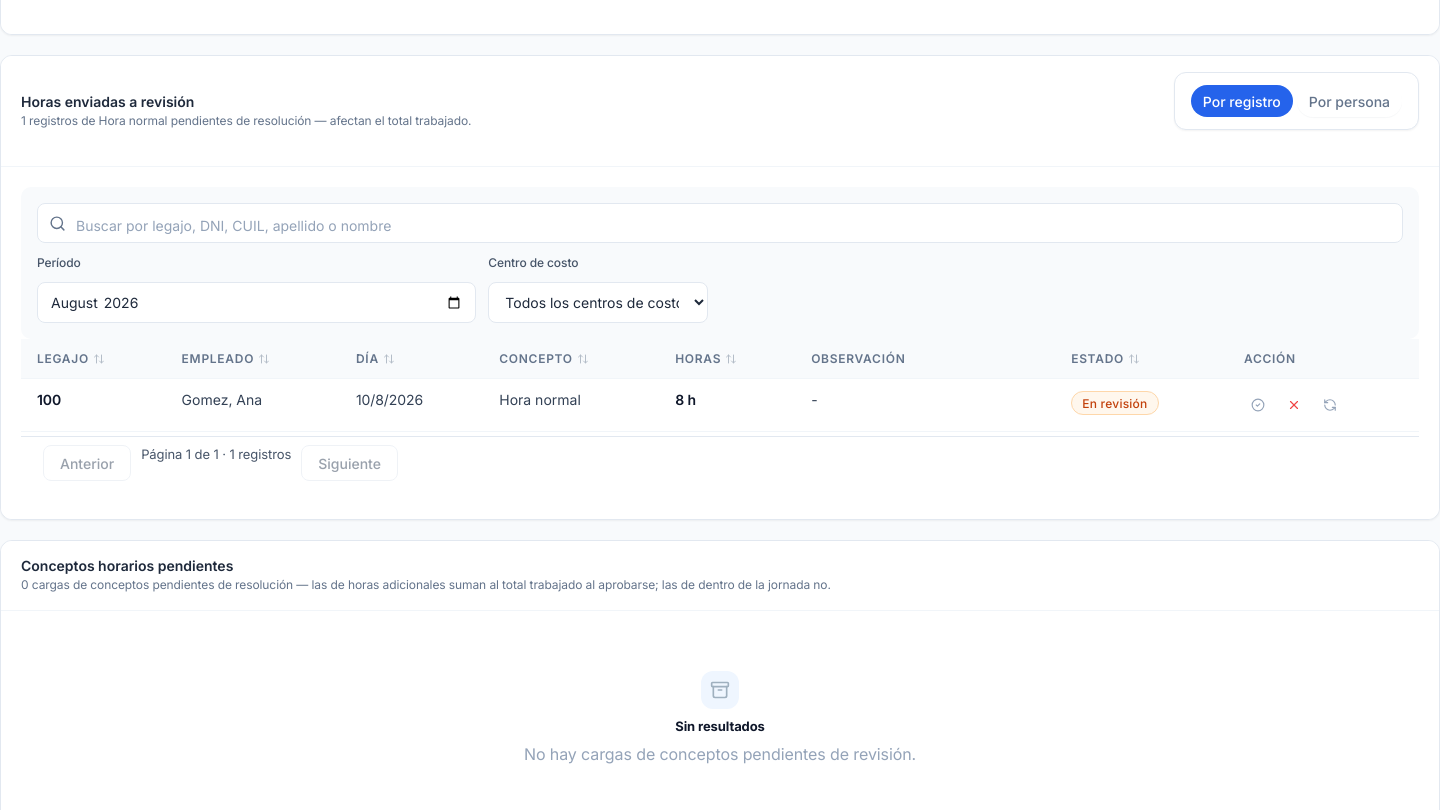
Test: HoursPage — las acciones de revisión no fallan en silencio (Etapa 7A) › si rechazar una carga horaria falla, muestra el error y deja el modal abierto para reintentar
(page scrolled)
Click the button named "Rechazar".
click(1294, 406)  # box x1=1280 y1=392 x2=1308 y2=420
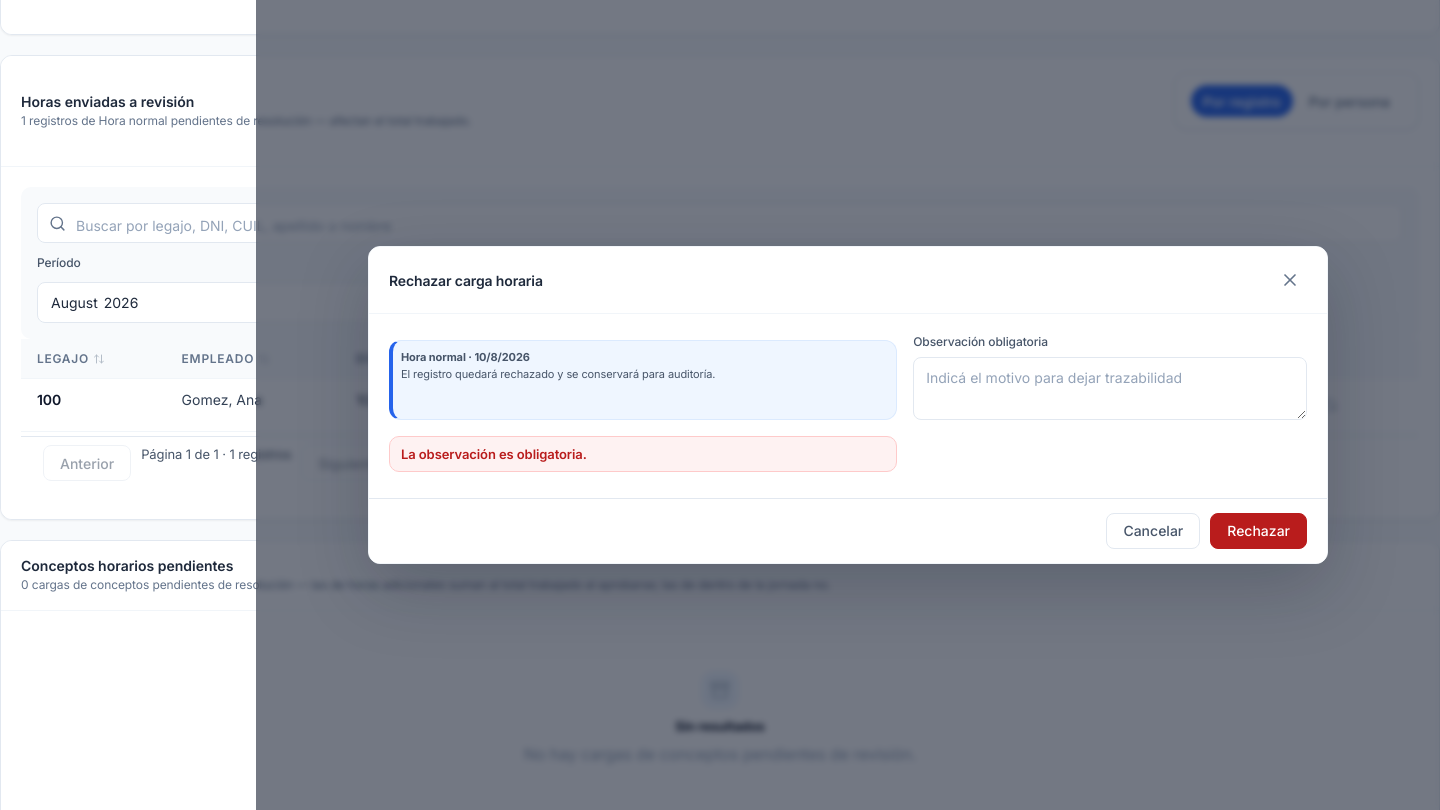
Type "No corresponde" into the text box with placeholder "Indicá el motivo para dejar trazabilidad".
click(1110, 388); type("No corresponde")  # box x1=913 y1=357 x2=1307 y2=420
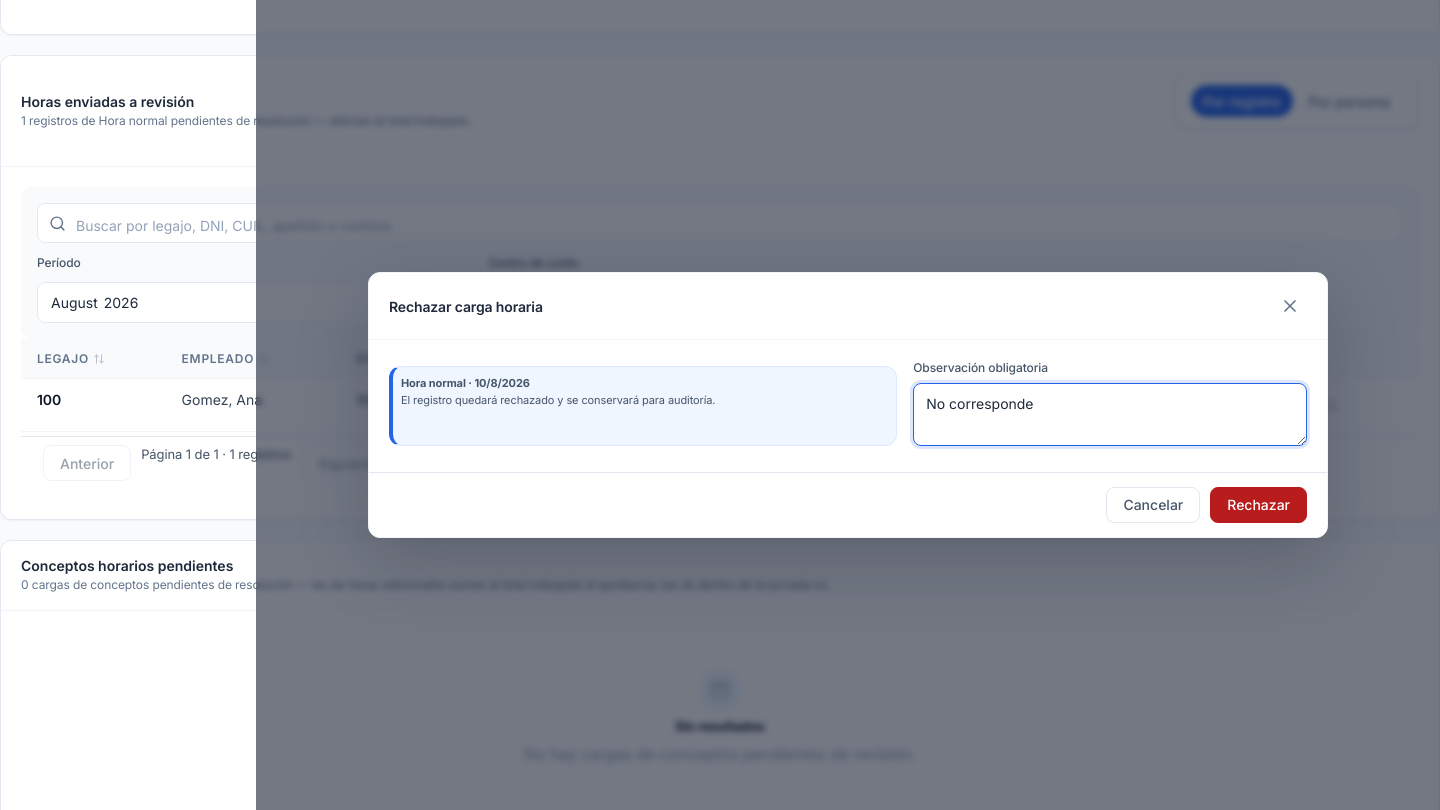
Click the button "Rechazar".
click(1259, 505)  # box x1=1210 y1=487 x2=1307 y2=523
(page scrolled)
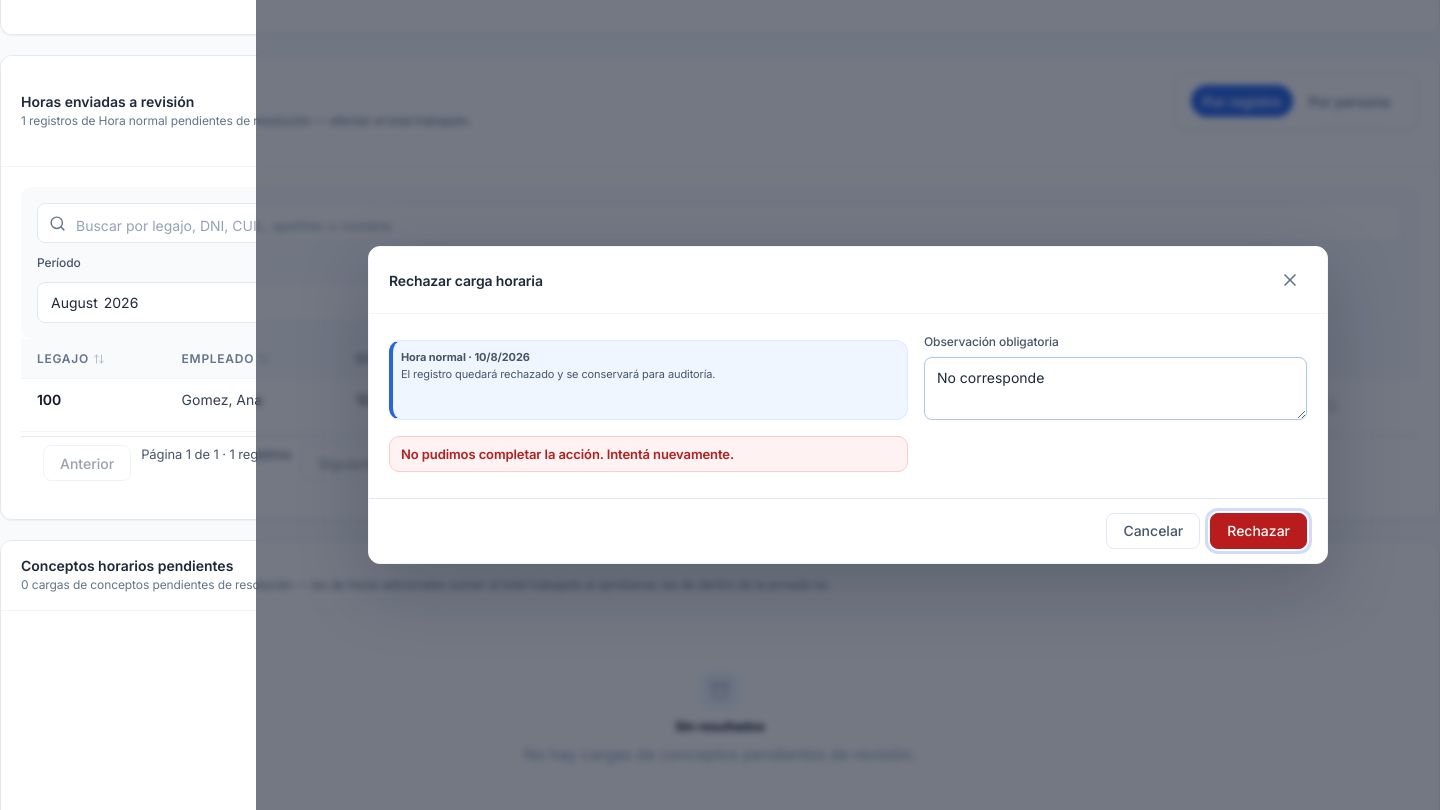
Now the text "No pudimos completar la acción. Intentá nuevamente." is shown, box x1=389 y1=436 x2=908 y2=472
